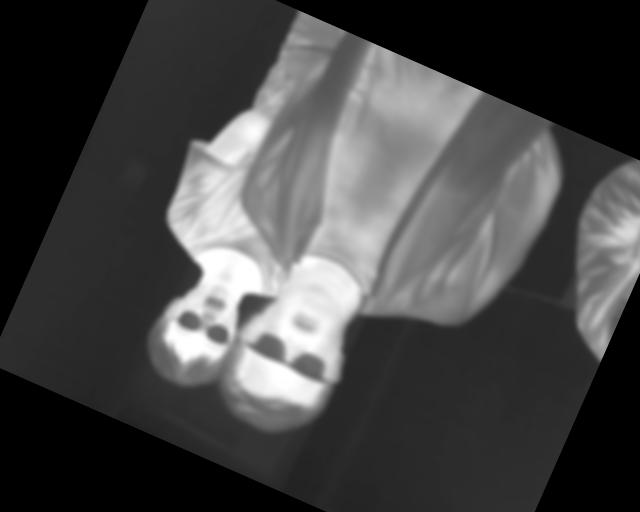face: (206, 267, 370, 455), (132, 265, 252, 401)
